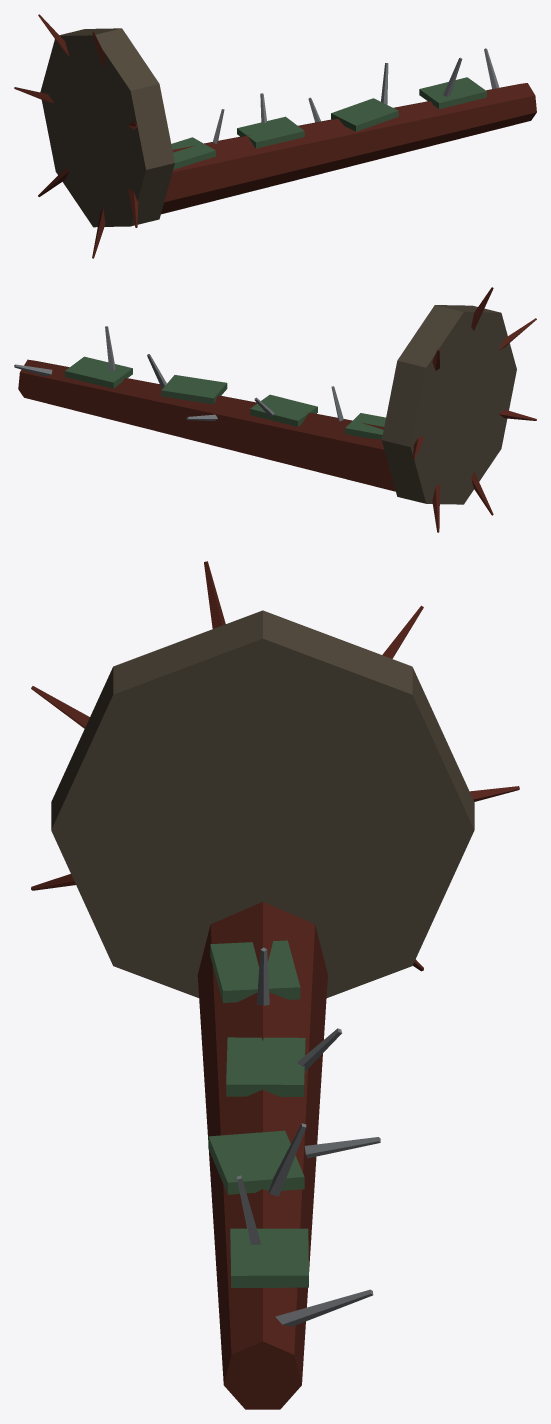
The model's file is fallen_trunk.glb.
The picture shows the model from 3 angles, top to bottom: view 1: azimuth 30°, elevation 25°; view 2: azimuth 150°, elevation 25°; view 3: azimuth 270°, elevation 25°; orthographic projection. The views are drawn at different scales.
Visible parts, largest first — view 1: driftwood_d62, coal_d57, moss_d35, coal_d55, silverfog_d45; view 2: driftwood_d62, coal_d57, moss_d35, coal_d55, silverfog_d45; view 3: driftwood_d62, coal_d57, moss_d35, silverfog_d45, coal_d55.
Part boxes in pixels (box(x1,y1,x2,y2)): driftwood_d62: box(40, 28, 174, 227); coal_d57: box(161, 83, 536, 214); moss_d35: box(171, 77, 486, 169); coal_d55: box(14, 14, 138, 258); silverfog_d45: box(213, 48, 499, 144); driftwood_d62: box(381, 305, 516, 504); coal_d57: box(18, 359, 395, 491); moss_d35: box(65, 356, 385, 439); coal_d55: box(413, 287, 536, 532); silverfog_d45: box(14, 326, 343, 421); driftwood_d62: box(51, 610, 474, 997); coal_d57: box(197, 902, 327, 1409); moss_d35: box(208, 940, 308, 1287); silverfog_d45: box(236, 947, 380, 1326); coal_d55: box(31, 561, 519, 971).
Bounding box in the file's own units: 4.66 × 2.25 × 2.19.
